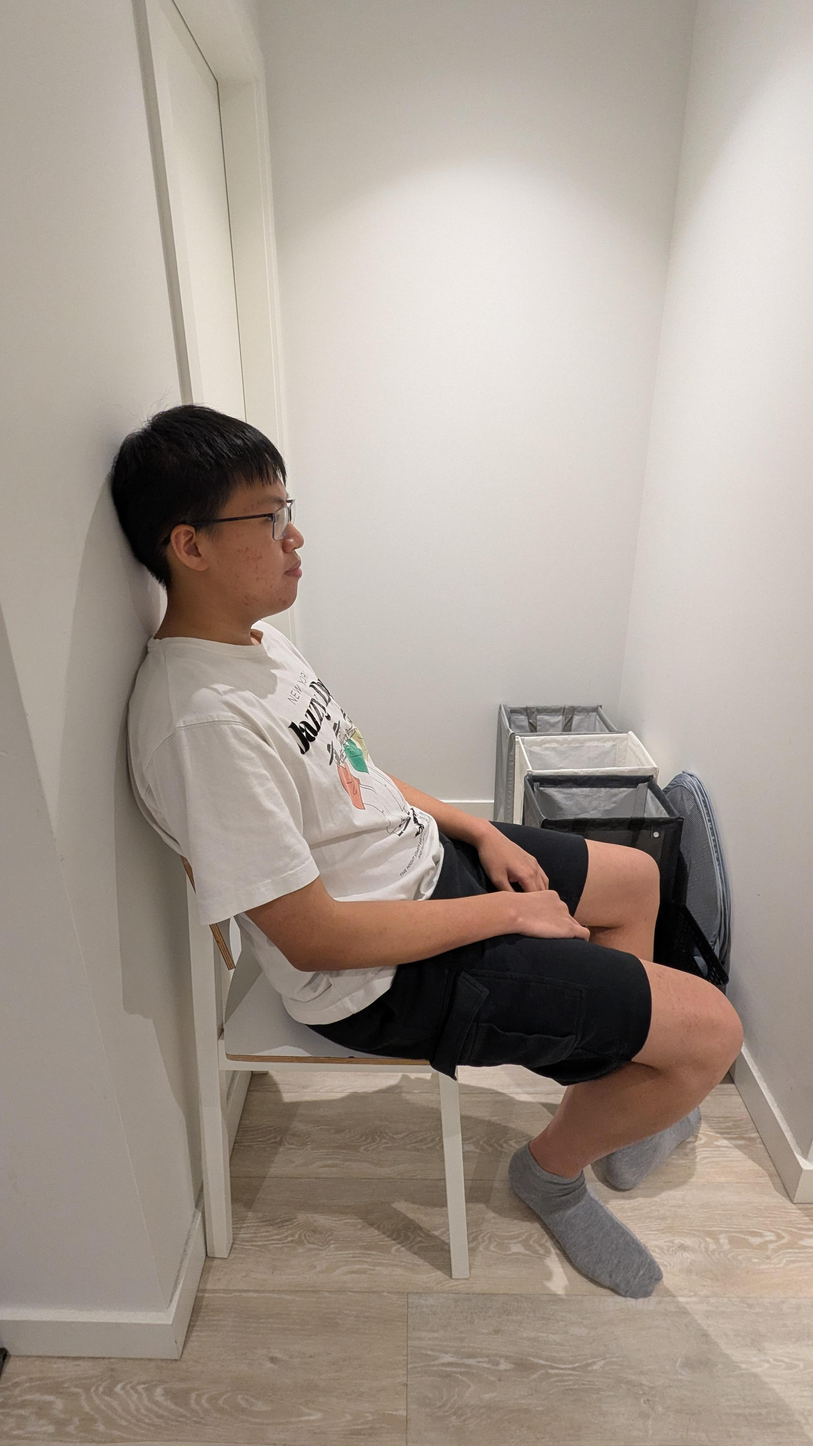BadPosture: (108, 405, 743, 1298)
